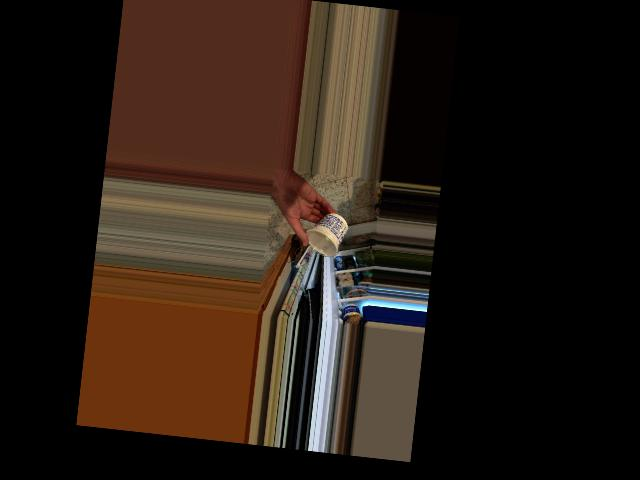cotage: (306, 214, 347, 260)
